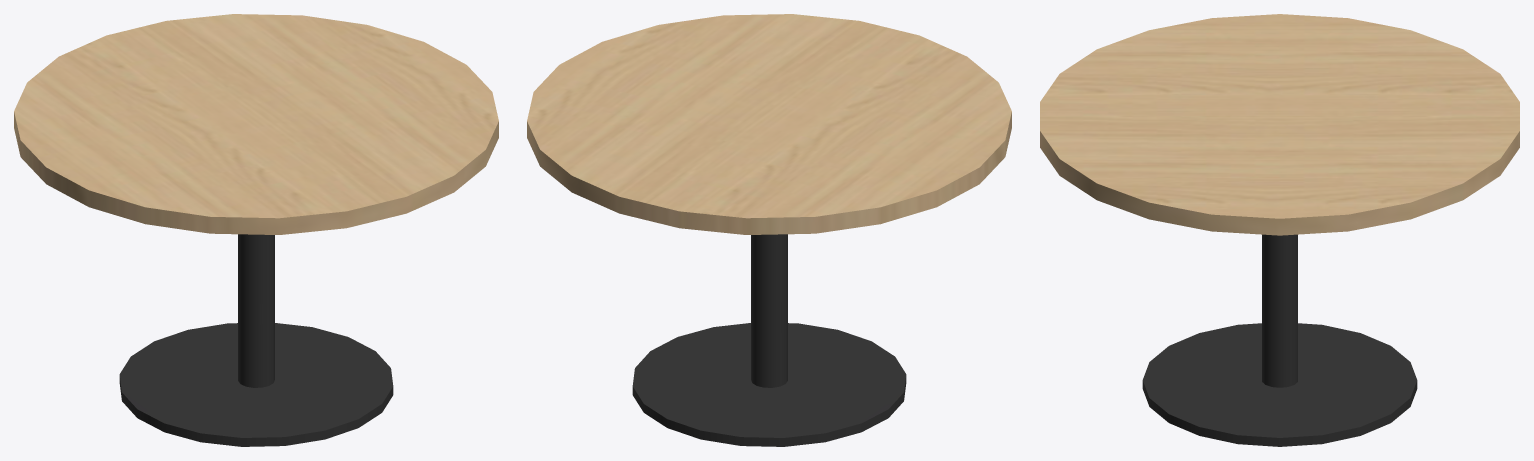
File: round_table.fbx
3 renders of one model, left to right at view 1: azimuth 30°, elevation 25°; view 2: azimuth 150°, elevation 25°; view 3: azimuth 270°, elevation 25°, orthographic.
Visible parts, largest first — view 1: pCylinder4; view 2: pCylinder4; view 3: pCylinder4.
Boxes of the visible parts, left/top/right/bottom form: pCylinder4: left=14, top=14, right=498, bottom=446; pCylinder4: left=527, top=14, right=1011, bottom=446; pCylinder4: left=1040, top=14, right=1519, bottom=446.
Size of the model in its own units: 0.7221 by 0.4481 by 0.7147.
1 material, 1 textured.
